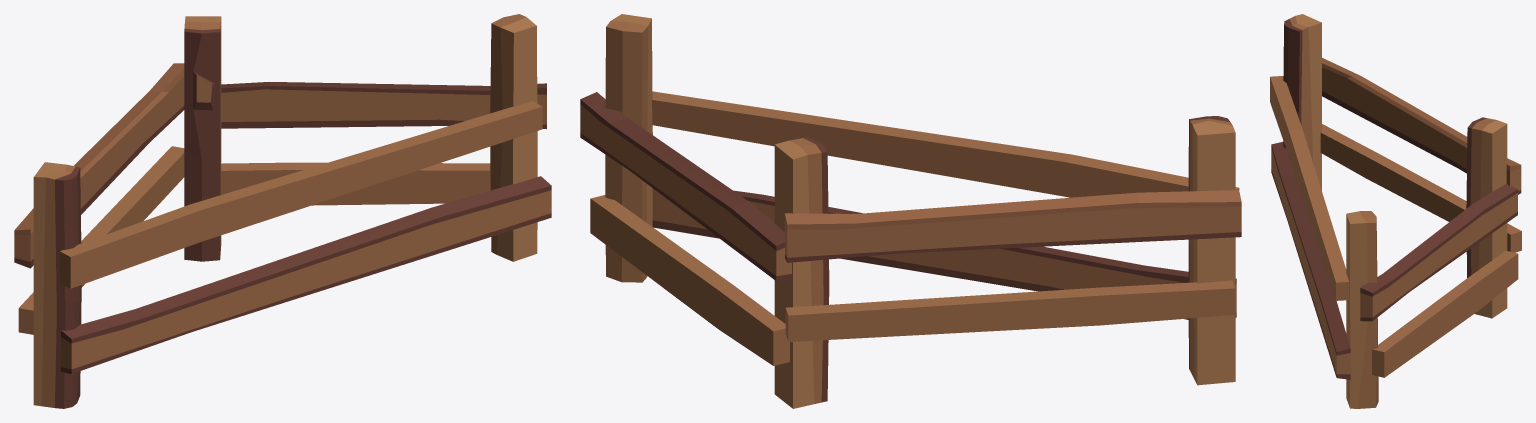
File: drying_stand_short.fbx
The picture shows the model from 3 angles, left to right: view 1: azimuth 30°, elevation 25°; view 2: azimuth 150°, elevation 25°; view 3: azimuth 270°, elevation 25°; orthographic projection. The views are drawn at different scales.
Visible parts, largest first — view 1: drying_2.001; view 2: drying_2.001; view 3: drying_2.001.
Boxes of the visible parts, x1,y1,x2,y2 form: drying_2.001: (14,14,551,408); drying_2.001: (580,14,1241,408); drying_2.001: (1270,14,1521,408).
Size of the model in its own units: 135 by 52.01 by 63.88.
